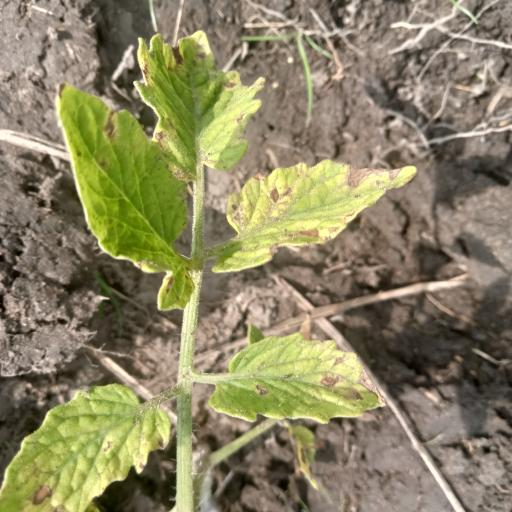Tomato_Brown_Spots: (52, 82, 196, 279), (198, 156, 417, 278), (0, 383, 181, 512), (130, 28, 270, 175), (202, 330, 394, 430)
